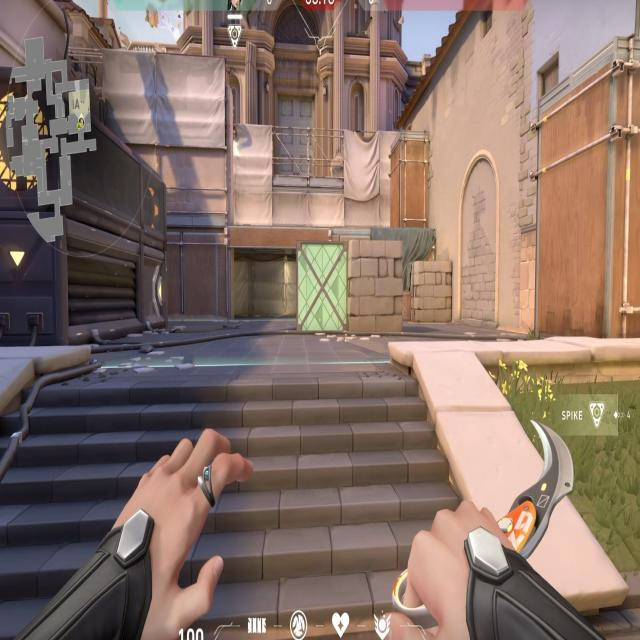A_Heaven_Box: (388, 132, 431, 228)
A_Heaven_Wall: (89, 54, 233, 226)
A_Hell: (210, 230, 344, 322)
A_Site_Box: (296, 238, 405, 328)
